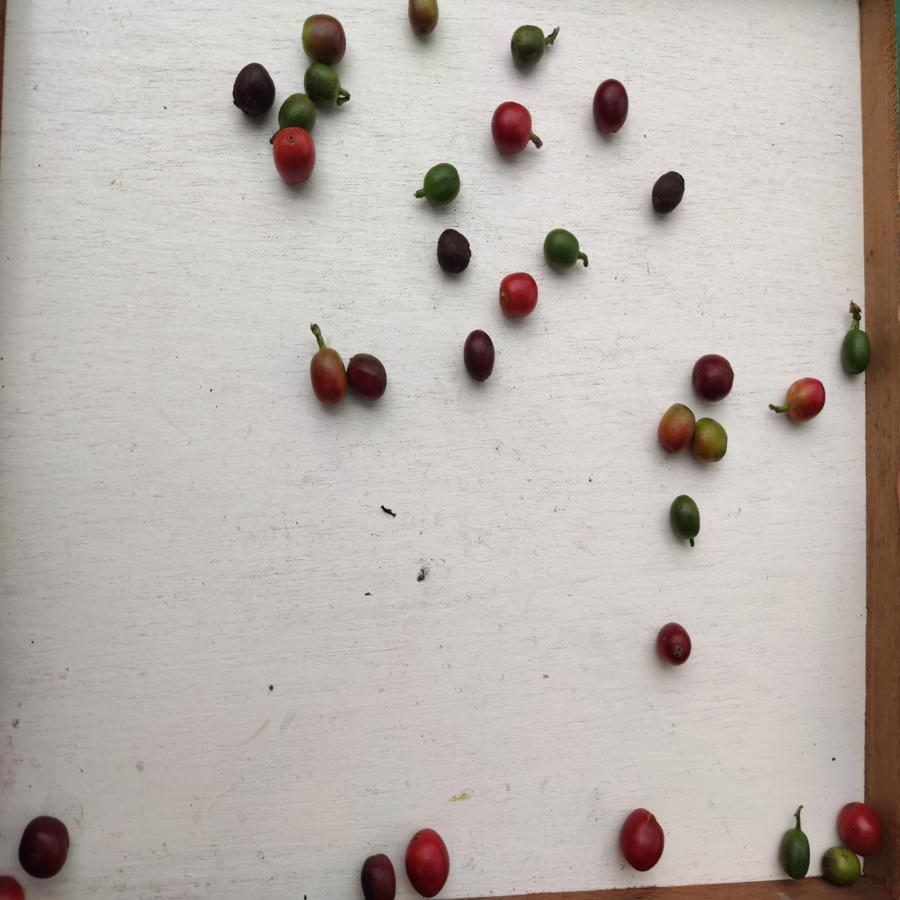Inmaduro: (418, 161, 463, 207), (505, 25, 551, 68), (301, 65, 345, 107), (838, 327, 873, 377), (780, 825, 812, 879), (669, 495, 706, 541), (542, 227, 580, 270), (276, 92, 318, 127)
Maduro: (403, 826, 452, 899), (269, 124, 320, 188), (618, 807, 665, 874), (491, 94, 536, 158), (838, 801, 881, 855), (497, 270, 540, 320)
Pinton: (308, 344, 350, 412), (301, 11, 350, 64), (780, 376, 827, 426), (693, 414, 732, 467), (658, 402, 697, 452), (824, 846, 863, 888), (404, 1, 441, 32)
Sobremaduro: (14, 813, 73, 884), (229, 63, 277, 120), (592, 78, 634, 137), (345, 350, 390, 399), (691, 355, 736, 402), (357, 850, 397, 900), (652, 621, 697, 665), (434, 228, 475, 275), (463, 327, 498, 381), (649, 170, 689, 216)
